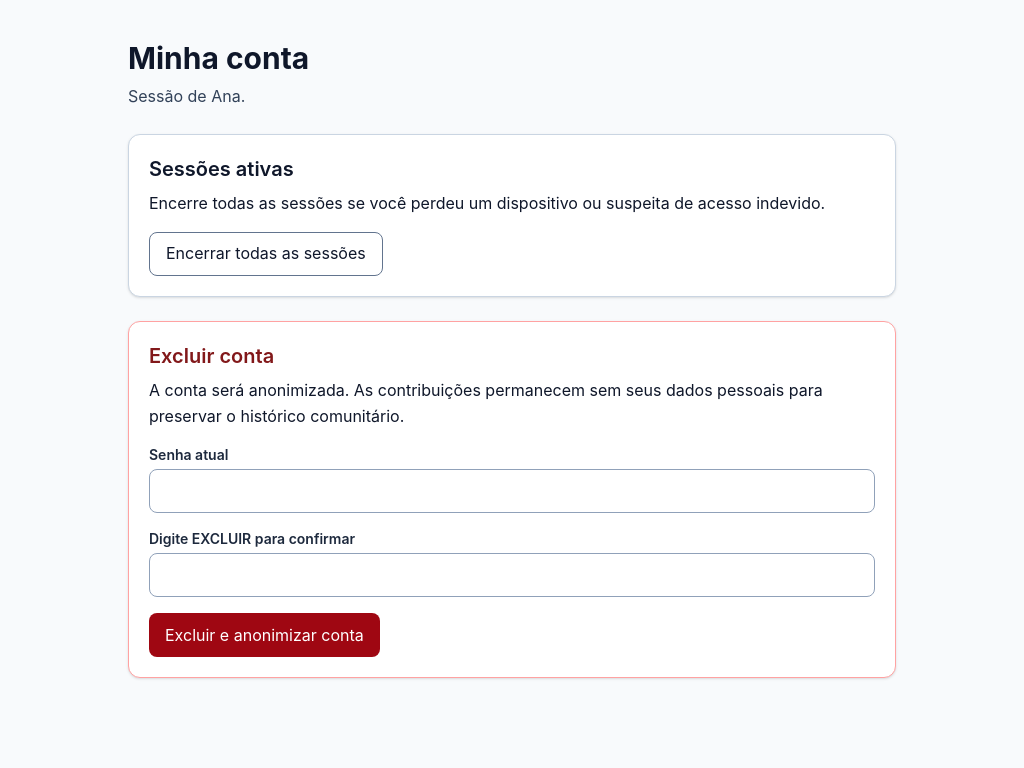
Test case: Conta › encerra todas as sessões e anuncia falha do servidor
The image size is (1024, 768).
Click the button "Encerrar todas as sessões".
click(266, 254)  # box [149,232,383,276]
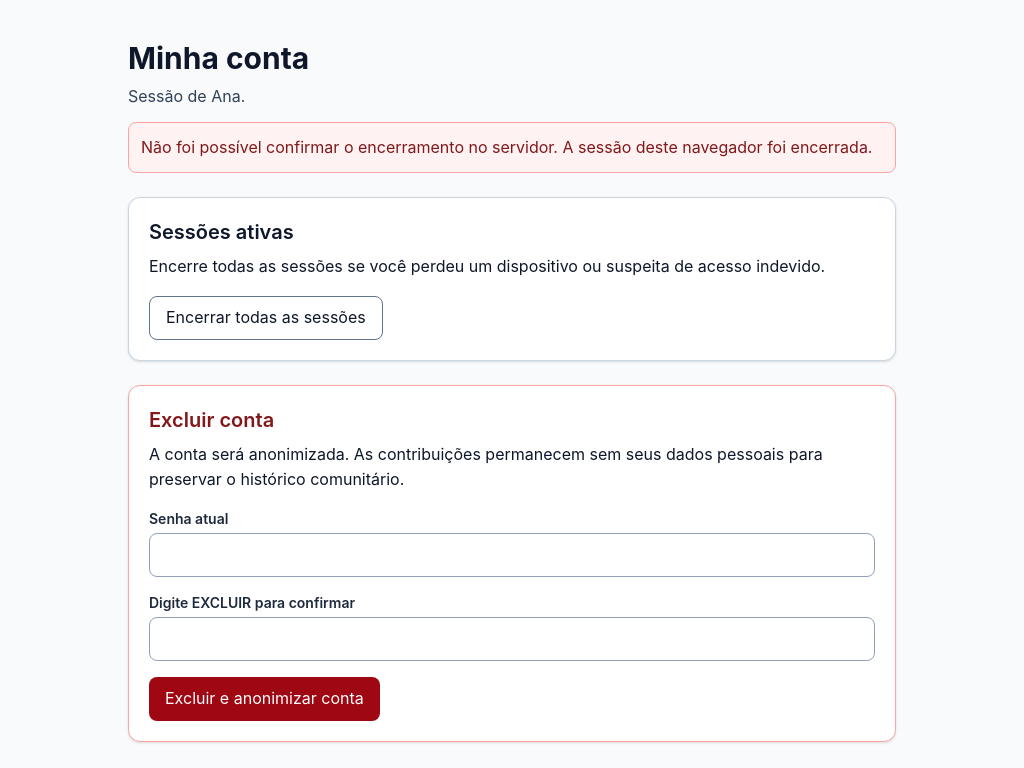
Now the message shows "sessão deste navegador foi encerrada", box [141,137,872,157]
